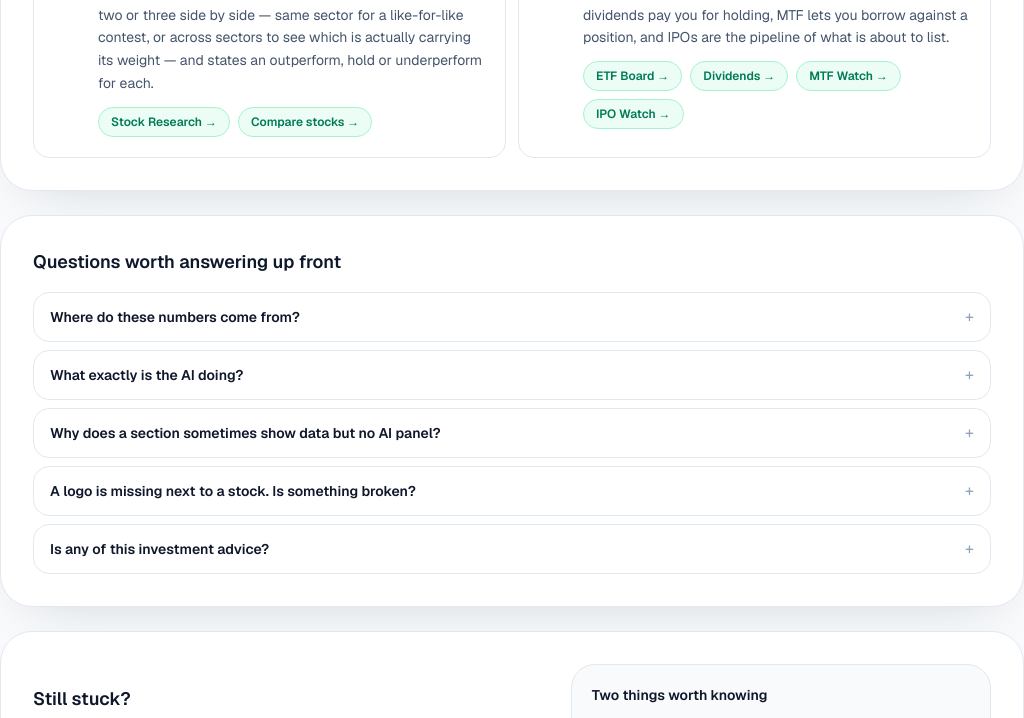
Test case: GettingStarted › states what the AI does and does not decide
(page scrolled)
Click the button "What exactly is the AI doing? +": x=147, y=374 top-left (34, 350), bottom-right (990, 398)
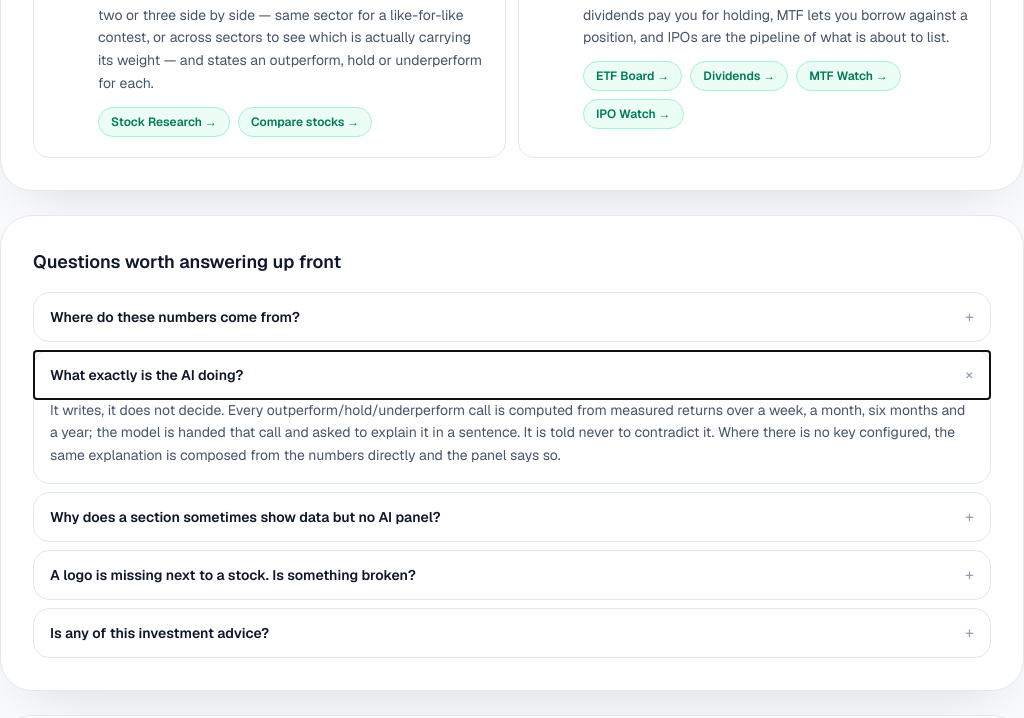
Now the text "It writes, it does not decide" is shown, box top-left (50, 400), bottom-right (965, 464)
Click the button "Is any of this investment advice? +": x=160, y=633 top-left (34, 609), bottom-right (990, 657)
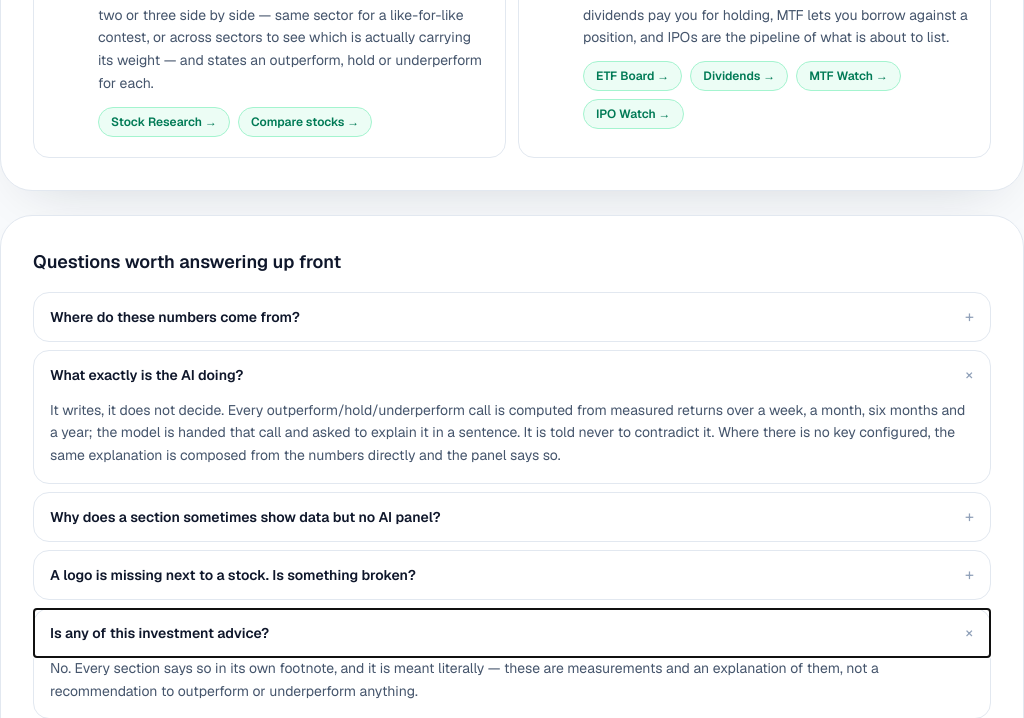
Now the text "not a recommendation to outperform or underperform anything" is shown, box top-left (50, 659), bottom-right (879, 700)
